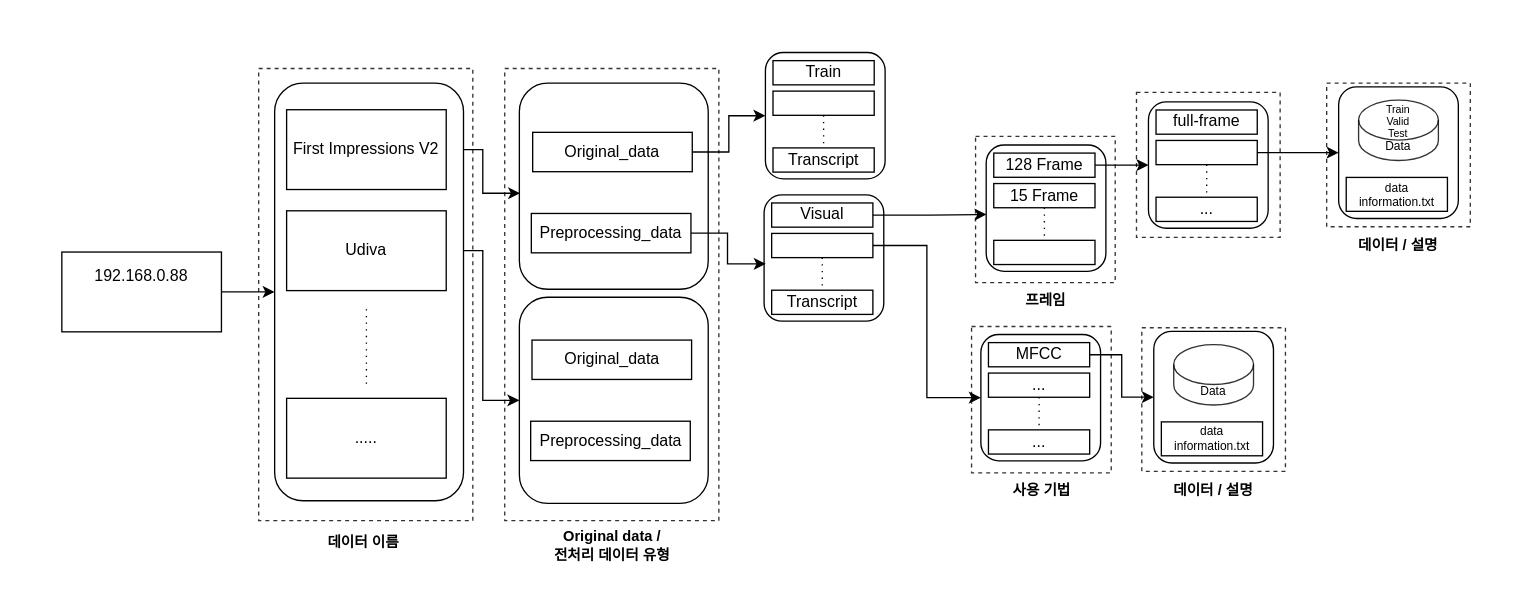
Some shapes in this 1536 by 606 pixel diagram are drawn without their labels. The shapes that lost their labels are listed below. From the top down, each one's box as (x1, y1, x2, y2) in pixels, then its label:
(772, 90, 874, 115): Test
(1155, 139, 1257, 165): face
(770, 232, 873, 258): Audio
(992, 239, 1095, 265): 5 Frame
(61, 251, 221, 332): /mnt/2ndSSD
